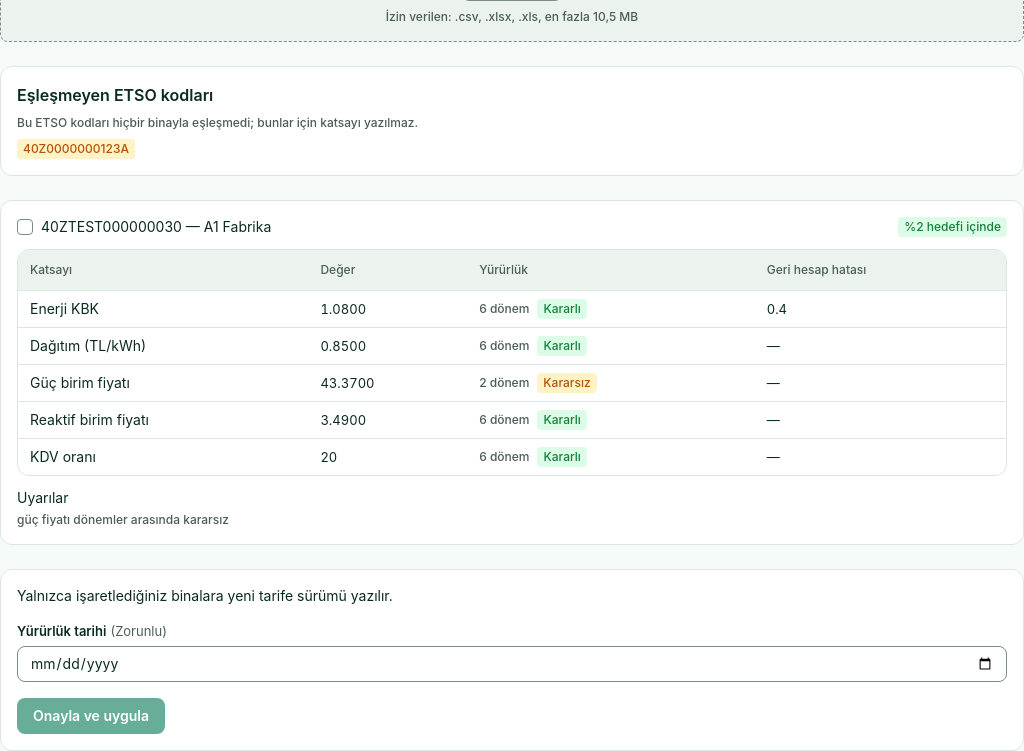
it: IcmalTabView › writes nothing until the operator confirms a building
(page scrolled)
Step 1. Type "2026-10-01" into the date field labelled "Yürürlük tarihi(Zorunlu)" → (512, 664), box [17, 646, 1007, 682]
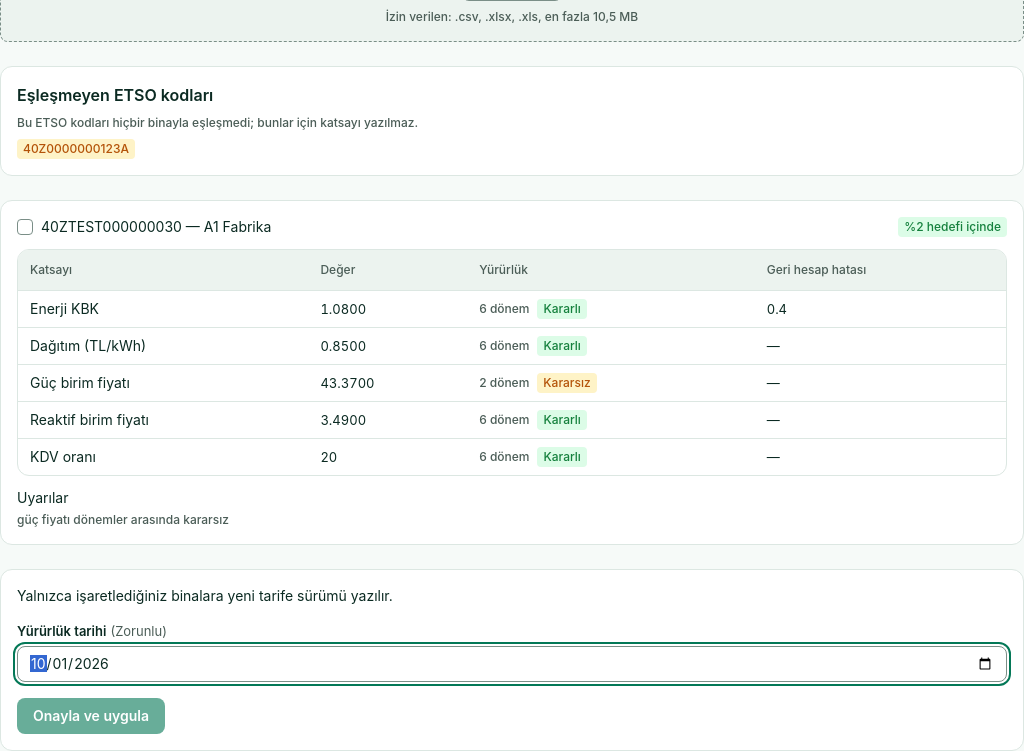
expect the button "Onayla ve uygula" is disabled: met, box [17, 698, 165, 734]
Step 2. Click the checkbox named "40ZTEST000000030" → (25, 227), box [17, 219, 33, 235]
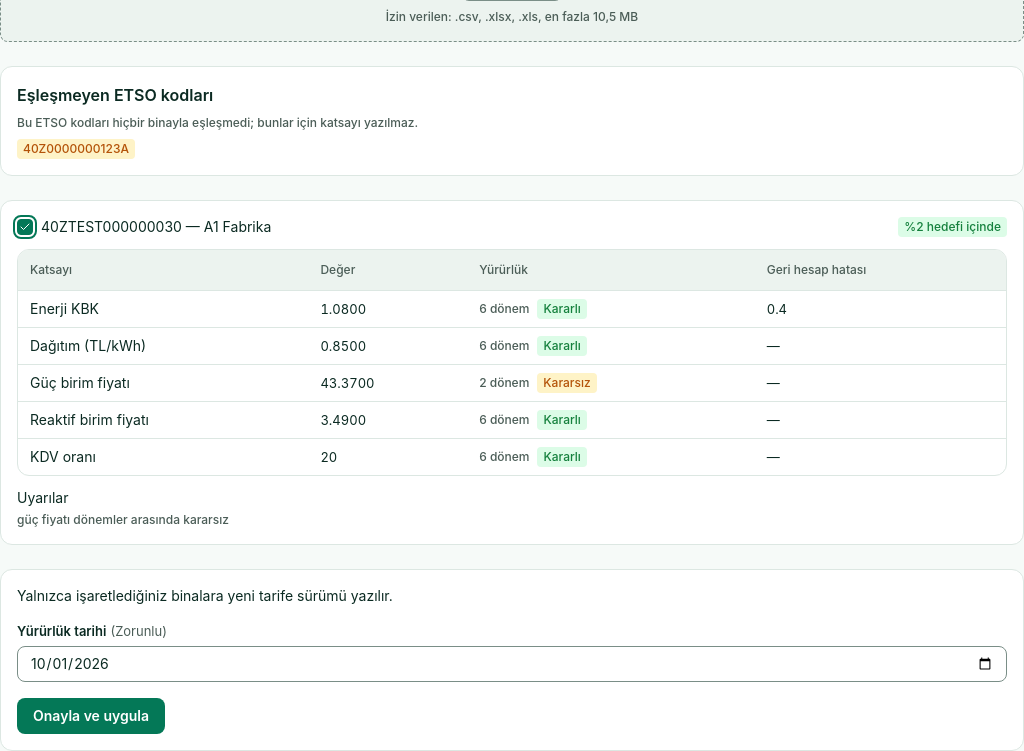
expect the button "Onayla ve uygula" is enabled: met, box [17, 698, 165, 734]
